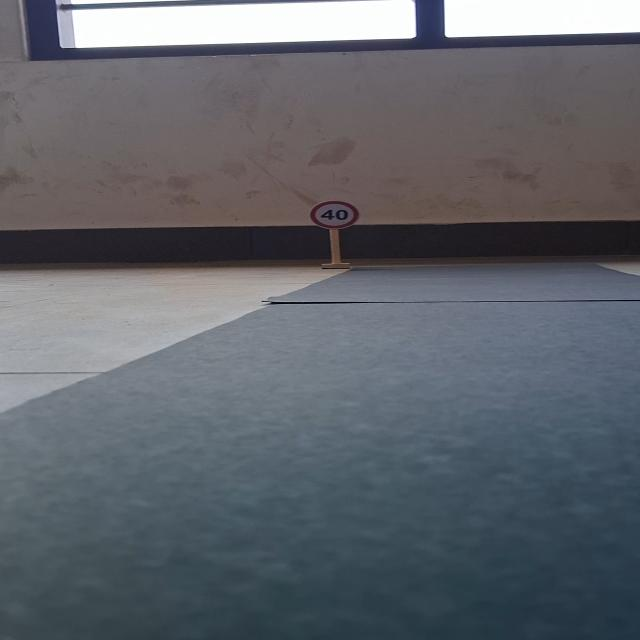Speed40: (299, 195, 368, 232)
